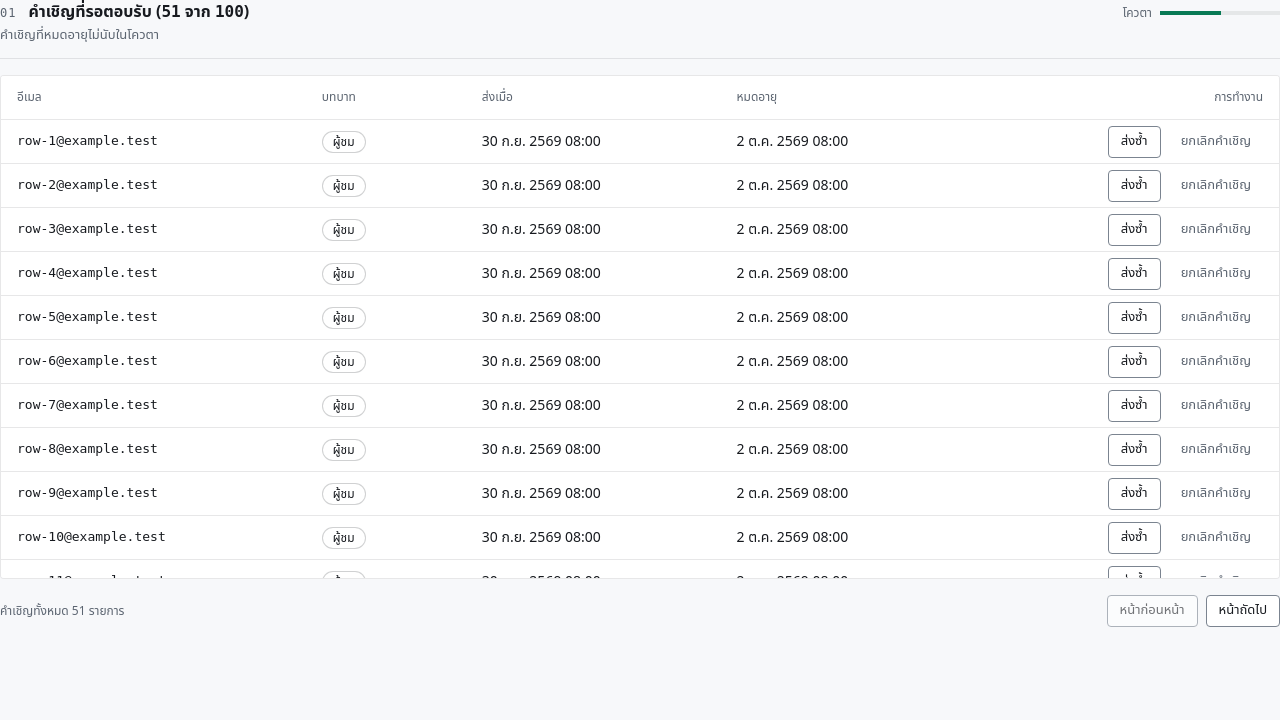
Scenario: invitation cancel › loads the last page that has rows after the only row of the last page is canceled
Click the button with test id "pending-invitations-next" at (1243, 610), box x1=1206 y1=594 x2=1279 y2=626
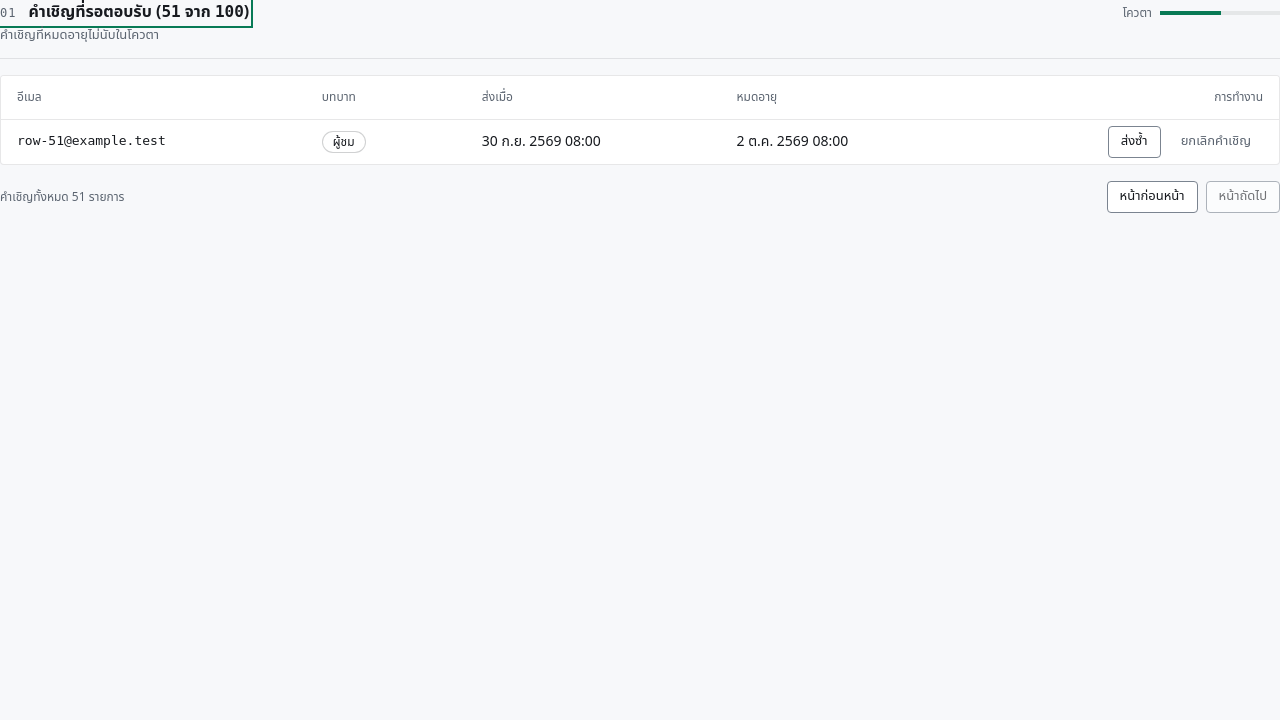
Click the button "ยกเลิกคำเชิญ" at (1216, 142), box x1=1169 y1=126 x2=1263 y2=158
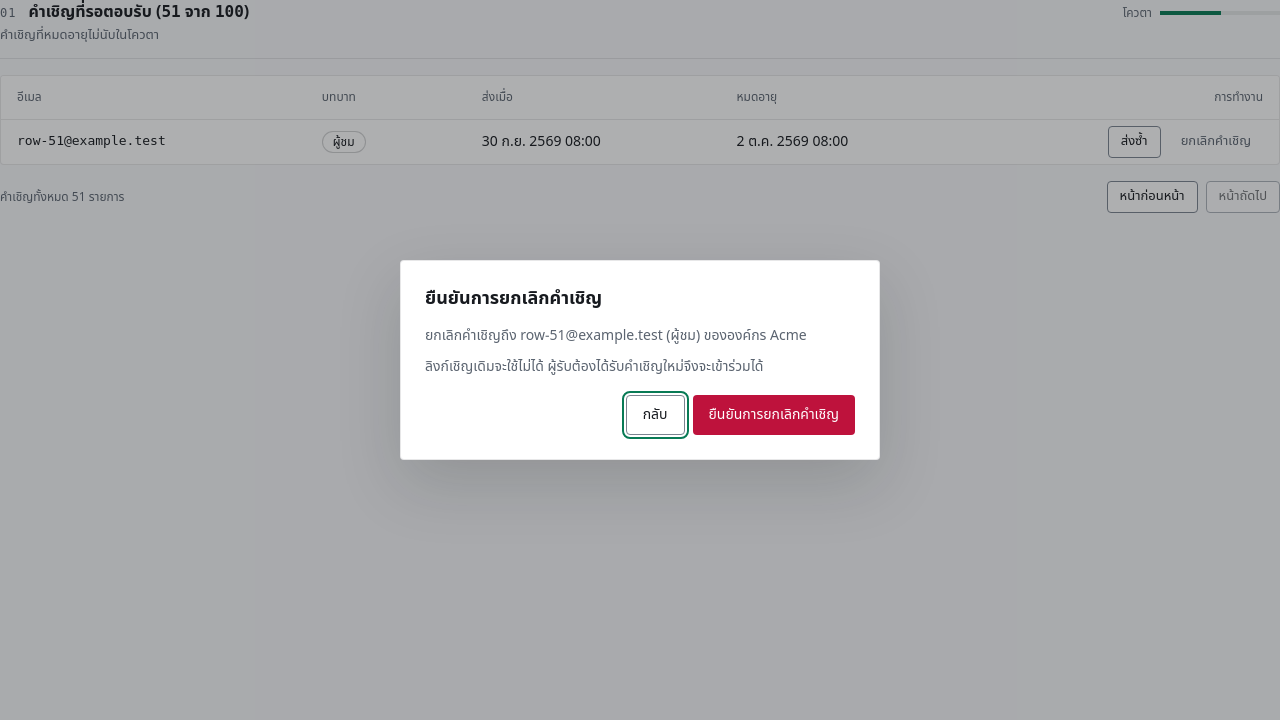
Click the button with test id "invitation-cancel-confirm" at (774, 415), box x1=692 y1=395 x2=855 y2=435
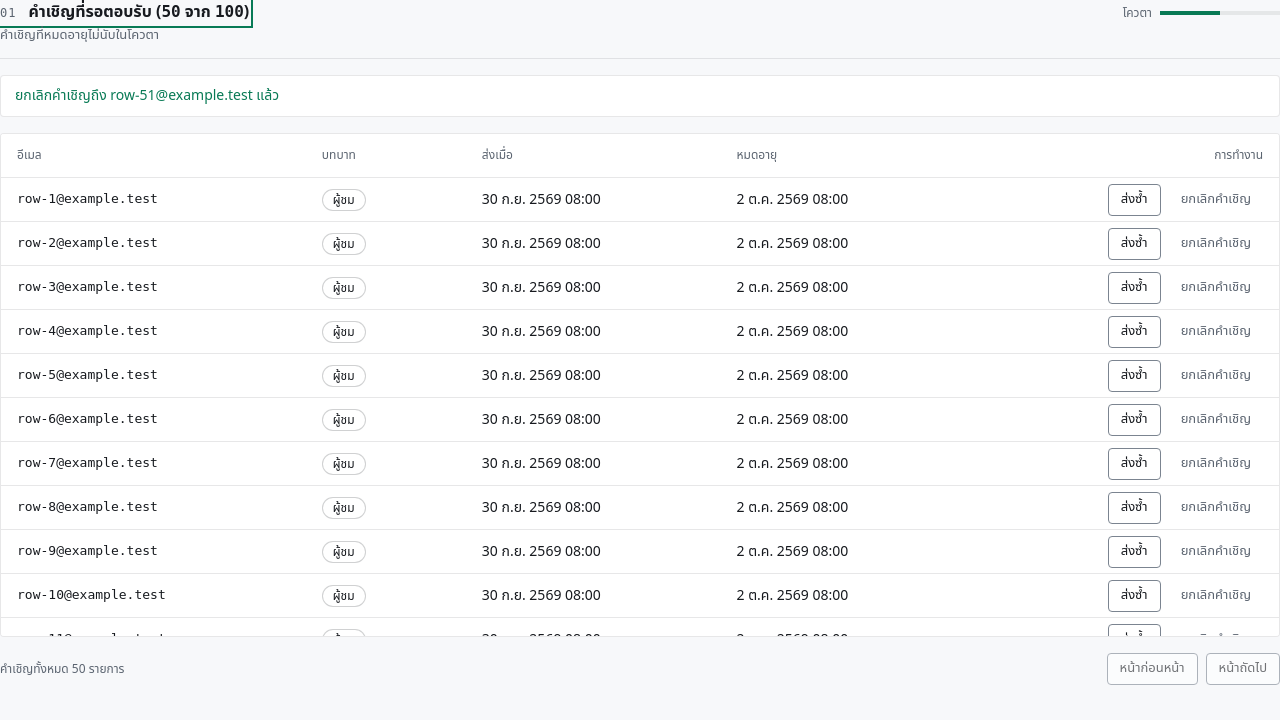
Result: the text "ยกเลิกคำเชิญถึง row-51@example.test แล้ว" is shown at x1=0 y1=74 x2=1279 y2=116
Result: the row with test id "pending-invitation-row-00000000-0000-4000-8000-000000000001" is shown at x1=1 y1=178 x2=1279 y2=222
